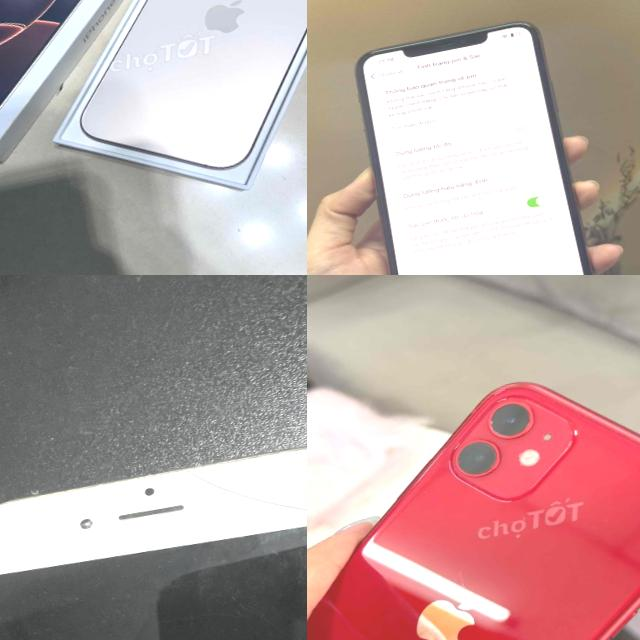physical_damage: (0, 475, 172, 565), (185, 435, 307, 549)
